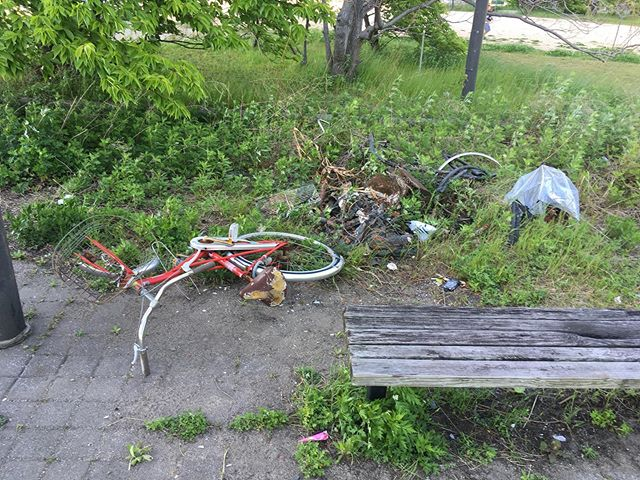bench: (320, 294, 640, 414)
bicicle: (21, 192, 362, 368)
trash: (237, 125, 570, 274)
vegetation: (1, 1, 640, 280)
